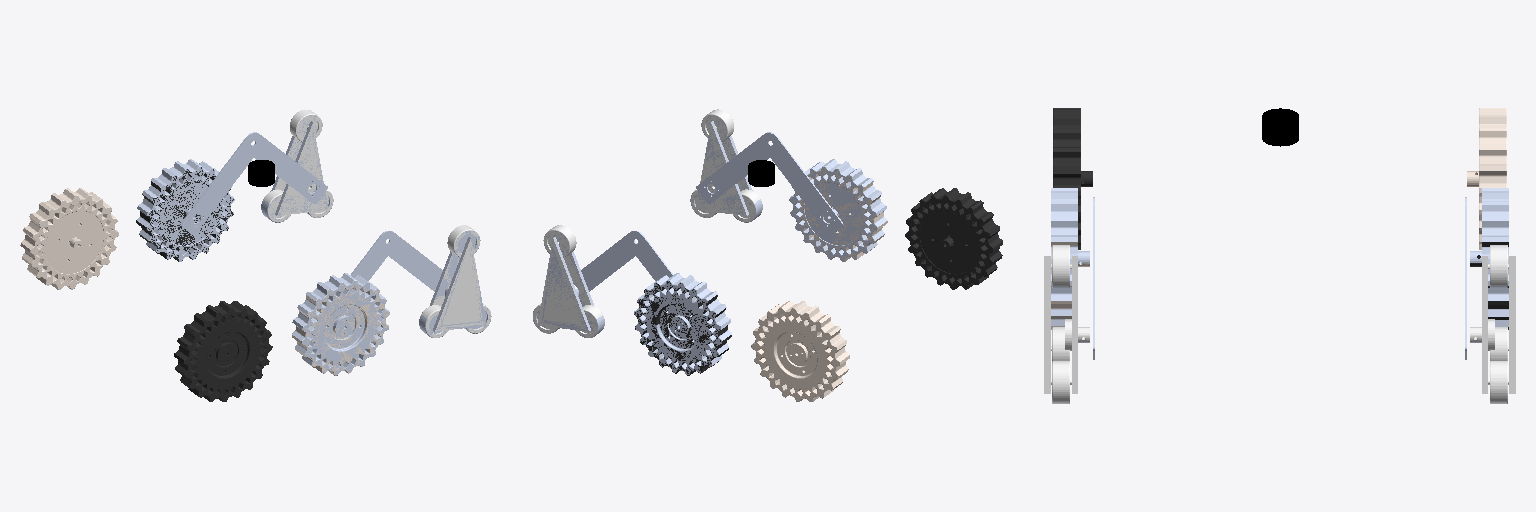
robot.urdf — r2krishna:
<?xml version="1.0" encoding="utf-8"?>
<robot name="r2krishna">
  
  <link name="base_link">
    <inertial>
      <origin xyz="0.110273400547228 -0.0643438972852127 0.0207053230118007" rpy="0 0 0" />
      <mass value="21.9610196729677" />
      <inertia ixx="0.15447400659073" ixy="0.00169652603130967" ixz="-0.00512190357984683" iyy="0.16520749268662" iyz="-7.06369736169903E-05" izz="0.285489345704309" />
    </inertial>
    <visual>
      <origin xyz="0 0 0" rpy="0 0 0" />
      <geometry><mesh filename="package://r2krishna/meshes/base_link.STL" /></geometry>
      <material name=""><color rgba="0.75 0.75 0.75 1" /></material>
    </visual>
    <collision>
      <origin xyz="0 0 0" rpy="0 0 0" />
      <geometry><mesh filename="package://r2krishna/meshes/base_link.STL" /></geometry>
    </collision>
  </link>

  <link name="link_FL1">
    <inertial>
      <origin xyz="0.00061925 -0.034108 -7.4778E-05" rpy="0 0 0" />
      <mass value="0.67641" />
      <inertia ixx="0.00028451" ixy="2.1427E-12" ixz="3.1E-05" iyy="0.00071901" iyz="-5.3869E-12" izz="0.00053748" />
    </inertial>
    <visual>
      <origin xyz="0 0 0" rpy="0 0 0" />
      <geometry><mesh filename="package://r2krishna/meshes/link_FL1.STL" /></geometry>
      <material name=""><color rgba="1 1 1 1" /></material>
    </visual>
    <collision>
      <origin xyz="0 0 0" rpy="0 0 0" />
      <geometry><mesh filename="package://r2krishna/meshes/link_FL1.STL" /></geometry>
    </collision>
  </link>
  <joint name="joint_FL1" type="continuous">
    <origin xyz="0.30332 0.37993 -0.22077" rpy="0 1.5708 0" />
    <parent link="base_link" />
    <child link="link_FL1" />
    <axis xyz="0 1 0" />
  </joint>

  <link name="link_FL2">
    <inertial>
      <origin xyz="7.2164E-16 -0.01 1.027E-15" rpy="0 0 0" />
      <mass value="0.099098" />
      <inertia ixx="3.8935E-05" ixy="-4.7043E-20" ixz="-1.1315E-20" iyy="6.5431E-05" iyz="1.6209E-19" izz="3.8935E-05" />
    </inertial>
    <visual>
      <origin xyz="0 0 0" rpy="0 0 0" />
      <geometry><mesh filename="package://r2krishna/meshes/link_FL2.STL" /></geometry>
      <material name=""><color rgba="1 1 1 1" /></material>
    </visual>
    <collision>
      <origin xyz="0 0 0" rpy="0 0 0" />
      <geometry><mesh filename="package://r2krishna/meshes/link_FL2.STL" /></geometry>
    </collision>
  </link>
  <joint name="joint_FL2" type="continuous">
    <origin xyz="0.3185 0.36293 -0.095009" rpy="0 0 0" />
    <parent link="base_link" />
    <child link="link_FL2" />
    <axis xyz="0 1 0" />
  </joint>

  <link name="link_FL3">
    <inertial>
      <origin xyz="7.2164E-16 -0.01 1.0547E-15" rpy="0 0 0" />
      <mass value="0.099098" />
      <inertia ixx="3.8935E-05" ixy="-4.6635E-20" ixz="-1.6422E-21" iyy="6.5431E-05" iyz="1.6532E-19" izz="3.8935E-05" />
    </inertial>
    <visual>
      <origin xyz="0 0 0" rpy="0 0 0" />
      <geometry><mesh filename="package://r2krishna/meshes/link_FL3.STL" /></geometry>
      <material name=""><color rgba="1 1 1 1" /></material>
    </visual>
    <collision>
      <origin xyz="0 0 0" rpy="0 0 0" />
      <geometry><mesh filename="package://r2krishna/meshes/link_FL3.STL" /></geometry>
    </collision>
  </link>
  <joint name="joint_FL3" type="continuous">
    <origin xyz="0.347 0.36293 -0.28793" rpy="0 0 0" />
    <parent link="base_link" />
    <child link="link_FL3" />
    <axis xyz="0 1 0" />
  </joint>

  <link name="link_FL4">
    <inertial>
      <origin xyz="2.7756E-17 -0.01 0" rpy="0 0 0" />
      <mass value="0.099098" />
      <inertia ixx="3.8935E-05" ixy="-4.2324E-20" ixz="3.5808E-21" iyy="6.5431E-05" iyz="1.6543E-19" izz="3.8935E-05" />
    </inertial>
    <visual>
      <origin xyz="0 0 0" rpy="0 0 0" />
      <geometry><mesh filename="package://r2krishna/meshes/link_FL4.STL" /></geometry>
      <material name=""><color rgba="1 1 1 1" /></material>
    </visual>
    <collision>
      <origin xyz="0 0 0" rpy="0 0 0" />
      <geometry><mesh filename="package://r2krishna/meshes/link_FL4.STL" /></geometry>
    </collision>
  </link>
  <joint name="joint_FL4" type="continuous">
    <origin xyz="0.24491 0.36293 -0.2756" rpy="0 0 0" />
    <parent link="base_link" />
    <child link="link_FL4" />
    <axis xyz="0 1 0" />
  </joint>

  <link name="link_bogieL">
    <inertial>
      <origin xyz="-0.065923 0.042065 -0.14456" rpy="0 0 0" />
      <mass value="2.9349" />
      <inertia ixx="0.0071128" ixy="-2.0634E-12" ixz="-4.6428E-05" iyy="0.014972" iyz="8.6033E-12" izz="0.0086463" />
    </inertial>
    <visual>
      <origin xyz="0 0 0" rpy="0 0 0" />
      <geometry><mesh filename="package://r2krishna/meshes/link_bogieL.STL" /></geometry>
      <material name=""><color rgba="0.86667 0.9098 1 1" /></material>
    </visual>
    <collision>
      <origin xyz="0 0 0" rpy="0 0 0" />
      <geometry><mesh filename="package://r2krishna/meshes/link_bogieL.STL" /></geometry>
    </collision>
  </link>
  <joint name="joint_bogieL" type="continuous">
    <origin xyz="0.15102 0.29993 -0.076168" rpy="0 0 0" />
    <parent link="base_link" />
    <child link="link_bogieL" />
    <axis xyz="0 1 0" />
  </joint>

  <link name="link_ML">
    <inertial>
      <origin xyz="1.0203E-10 -0.01995 2.8366E-10" rpy="0 0 0" />
      <mass value="2.0069" />
      <inertia ixx="0.0059093" ixy="3.3235E-12" ixz="-1.8276E-07" iyy="0.011135" iyz="1.0746E-11" izz="0.0059093" />
    </inertial>
    <visual>
      <origin xyz="0 0 0" rpy="0 0 0" />
      <geometry><mesh filename="package://r2krishna/meshes/link_ML.STL" /></geometry>
      <material name=""><color rgba="0.25 0.25 0.25 1" /></material>
    </visual>
    <collision>
      <origin xyz="0 0 0" rpy="0 0 0" />
      <geometry><mesh filename="package://r2krishna/meshes/link_ML.STL" /></geometry>
    </collision>
  </link>
  <joint name="joint_ML" type="continuous">
    <origin xyz="0.0031166 0.36593 -0.22807" rpy="0 0 0" />
    <parent link="base_link" />
    <child link="link_ML" />
    <axis xyz="0 1 0" />
  </joint>

  <link name="link_BL">
    <inertial>
      <origin xyz="4.6348E-11 -0.01995 -2.9787E-10" rpy="0 0 0" />
      <mass value="2.0069" />
      <inertia ixx="0.0059094" ixy="2.2314E-12" ixz="-1.2162E-07" iyy="0.011135" iyz="-1.1025E-11" izz="0.0059092" />
    </inertial>
    <visual>
      <origin xyz="0 0 0" rpy="0 0 0" />
      <geometry><mesh filename="package://r2krishna/meshes/link_BL.STL" /></geometry>
      <material name=""><color rgba="1 0.94902 0.9098 1" /></material>
    </visual>
    <collision>
      <origin xyz="0 0 0" rpy="0 0 0" />
      <geometry><mesh filename="package://r2krishna/meshes/link_BL.STL" /></geometry>
    </collision>
  </link>
  <joint name="joint_BL" type="continuous">
    <origin xyz="-0.2988 0.36193 -0.22635" rpy="0 0 0" />
    <parent link="base_link" />
    <child link="link_BL" />
    <axis xyz="0 1 0" />
  </joint>

  <link name="link_FR1">
    <inertial>
      <origin xyz="-7.4777E-05 0.034108 -0.00061925" rpy="0 0 0" />
      <mass value="0.67641" />
      <inertia ixx="0.00053748" ixy="-4.722E-12" ixz="-3.1E-05" iyy="0.00071901" iyz="3.3634E-12" izz="0.00028451" />
    </inertial>
    <visual>
      <origin xyz="0 0 0" rpy="0 0 0" />
      <geometry><mesh filename="package://r2krishna/meshes/link_FR1.STL" /></geometry>
      <material name=""><color rgba="1 1 1 1" /></material>
    </visual>
    <collision>
      <origin xyz="0 0 0" rpy="0 0 0" />
      <geometry><mesh filename="package://r2krishna/meshes/link_FR1.STL" /></geometry>
    </collision>
  </link>
  <joint name="joint_FR1" type="continuous">
    <origin xyz="0.30332 -0.38207 -0.22077" rpy="0 0 0" />
    <parent link="base_link" />
    <child link="link_FR1" />
    <axis xyz="0 1 0" />
  </joint>

  <link name="link_FR2">
    <inertial>
      <origin xyz="0 0.01 6.9389E-17" rpy="0 0 0" />
      <mass value="0.099098" />
      <inertia ixx="3.8935E-05" ixy="-2.6072E-20" ixz="2.0643E-21" iyy="6.5431E-05" iyz="2.0555E-19" izz="3.8935E-05" />
    </inertial>
    <visual>
      <origin xyz="0 0 0" rpy="0 0 0" />
      <geometry><mesh filename="package://r2krishna/meshes/link_FR2.STL" /></geometry>
      <material name=""><color rgba="1 1 1 1" /></material>
    </visual>
    <collision>
      <origin xyz="0 0 0" rpy="0 0 0" />
      <geometry><mesh filename="package://r2krishna/meshes/link_FR2.STL" /></geometry>
    </collision>
  </link>
  <joint name="joint_FR2" type="continuous">
    <origin xyz="0.3185 -0.36507 -0.095009" rpy="0 0 0" />
    <parent link="base_link" />
    <child link="link_FR2" />
    <axis xyz="0 1 0" />
  </joint>

  <link name="link_FR3">
    <inertial>
      <origin xyz="-2.7756E-17 0.01 5.5511E-17" rpy="0 0 0" />
      <mass value="0.099098" />
      <inertia ixx="3.8935E-05" ixy="-2.3474E-20" ixz="5.1648E-21" iyy="6.5431E-05" iyz="2.028E-19" izz="3.8935E-05" />
    </inertial>
    <visual>
      <origin xyz="0 0 0" rpy="0 0 0" />
      <geometry><mesh filename="package://r2krishna/meshes/link_FR3.STL" /></geometry>
      <material name=""><color rgba="1 1 1 1" /></material>
    </visual>
    <collision>
      <origin xyz="0 0 0" rpy="0 0 0" />
      <geometry><mesh filename="package://r2krishna/meshes/link_FR3.STL" /></geometry>
    </collision>
  </link>
  <joint name="joint_FR3" type="continuous">
    <origin xyz="0.24491 -0.36507 -0.2756" rpy="0 0 0" />
    <parent link="base_link" />
    <child link="link_FR3" />
    <axis xyz="0 1 0" />
  </joint>

  <link name="link_FR4">
    <inertial>
      <origin xyz="-5.5511E-17 0.01 5.5511E-17" rpy="0 0 0" />
      <mass value="0.099098" />
      <inertia ixx="3.8935E-05" ixy="-2.5923E-20" ixz="7.0653E-22" iyy="6.5431E-05" iyz="2.0272E-19" izz="3.8935E-05" />
    </inertial>
    <visual>
      <origin xyz="0 0 0" rpy="0 0 0" />
      <geometry><mesh filename="package://r2krishna/meshes/link_FR4.STL" /></geometry>
      <material name=""><color rgba="1 1 1 1" /></material>
    </visual>
    <collision>
      <origin xyz="0 0 0" rpy="0 0 0" />
      <geometry><mesh filename="package://r2krishna/meshes/link_FR4.STL" /></geometry>
    </collision>
  </link>
  <joint name="joint_FR4" type="continuous">
    <origin xyz="0.347 -0.36507 -0.28793" rpy="0 0 0" />
    <parent link="base_link" />
    <child link="link_FR4" />
    <axis xyz="0 1 0" />
  </joint>

  <link name="link_bogieR">
    <inertial>
      <origin xyz="-0.065923 -0.046065 -0.14456" rpy="0 0 0" />
      <mass value="2.9349" />
      <inertia ixx="0.0071127" ixy="-1.2688E-11" ixz="-4.6165E-05" iyy="0.014972" iyz="1.1305E-11" izz="0.0086464" />
    </inertial>
    <visual>
      <origin xyz="0 0 0" rpy="0 0 0" />
      <geometry><mesh filename="package://r2krishna/meshes/link_bogieR.STL" /></geometry>
      <material name=""><color rgba="0.86667 0.9098 1 1" /></material>
    </visual>
    <collision>
      <origin xyz="0 0 0" rpy="0 0 0" />
      <geometry><mesh filename="package://r2krishna/meshes/link_bogieR.STL" /></geometry>
    </collision>
  </link>
  <joint name="joint_bogieR" type="continuous">
    <origin xyz="0.15102 -0.29807 -0.076168" rpy="0 0 0" />
    <parent link="base_link" />
    <child link="link_bogieR" />
    <axis xyz="0 1 0" />
  </joint>

  <link name="link_MR">
    <inertial>
      <origin xyz="2.229E-10 0.01995 -2.0295E-10" rpy="0 0 0" />
      <mass value="2.0069" />
      <inertia ixx="0.0059091" ixy="-7.9655E-12" ixz="8.0349E-08" iyy="0.011135" iyz="7.9419E-12" izz="0.0059095" />
    </inertial>
    <visual>
      <origin xyz="0 0 0" rpy="0 0 0" />
      <geometry><mesh filename="package://r2krishna/meshes/link_MR.STL" /></geometry>
      <material name=""><color rgba="1 0.94902 0.9098 1" /></material>
    </visual>
    <collision>
      <origin xyz="0 0 0" rpy="0 0 0" />
      <geometry><mesh filename="package://r2krishna/meshes/link_MR.STL" /></geometry>
    </collision>
  </link>
  <joint name="joint_MR" type="continuous">
    <origin xyz="0.0031166 -0.36807 -0.22807" rpy="0 0 0" />
    <parent link="base_link" />
    <child link="link_MR" />
    <axis xyz="0 1 0" />
  </joint>

  <link name="link_BR">
    <inertial>
      <origin xyz="2.4959E-10 0.01995 -1.6905E-10" rpy="0 0 0" />
      <mass value="2.0069" />
      <inertia ixx="0.0059091" ixy="-9.0177E-12" ixz="3.0059E-08" iyy="0.011135" iyz="6.7234E-12" izz="0.0059095" />
    </inertial>
    <visual>
      <origin xyz="0 0 0" rpy="0 0 0" />
      <geometry><mesh filename="package://r2krishna/meshes/link_BR.STL" /></geometry>
      <material name=""><color rgba="0.25098 0.25098 0.25098 1" /></material>
    </visual>
    <collision>
      <origin xyz="0 0 0" rpy="0 0 0" />
      <geometry><mesh filename="package://r2krishna/meshes/link_BR.STL" /></geometry>
    </collision>
  </link>
  <joint name="Joint_BR" type="continuous">
    <origin xyz="-0.2988 -0.36407 -0.22635" rpy="0 0 0" />
    <parent link="base_link" />
    <child link="link_BR" />
    <axis xyz="0 1 0" />
  </joint>

  <link name="laser_frame">
    <visual>
      <geometry><cylinder length="0.04" radius="0.03"/></geometry>
      <material name="black"><color rgba="0 0 0 1"/></material>
    </visual>
    <inertial>
      <mass value="0.1"/>
      <inertia ixx="0.0001" ixy="0" ixz="0" iyy="0.0001" iyz="0" izz="0.0001"/>
    </inertial>
  </link>

  <joint name="lidar_joint" type="fixed">
    <parent link="base_link"/>
    <child link="laser_frame"/>
    <origin xyz="0 0 0.005" rpy="0 0 0"/>
  </joint>

  <gazebo>
    <plugin filename="gz-sim-diff-drive-system" name="gz::sim::systems::DiffDrive">
      <left_joint>joint_ML</left_joint>
      <right_joint>joint_MR</right_joint>
      <wheel_separation>0.6</wheel_separation>
      <wheel_radius>0.1</wheel_radius>
      <odom_publish_frequency>20</odom_publish_frequency>
      <topic>cmd_vel</topic>
      <odom_topic>odom</odom_topic>
      <tf_topic>tf</tf_topic>
      <frame_id>odom</frame_id>
      <child_frame_id>base_link</child_frame_id>
    </plugin>
    
    <plugin filename="gz-sim-joint-state-publisher-system" name="gz::sim::systems::JointStatePublisher">
      <topic>joint_states</topic>
    </plugin>
  </gazebo>

  <gazebo reference="link_ML">
      <mu1>2.0</mu1><mu2>2.0</mu2><kp>1000000.0</kp><kd>1.0</kd>
  </gazebo>
  <gazebo reference="link_MR">
      <mu1>2.0</mu1><mu2>2.0</mu2><kp>1000000.0</kp><kd>1.0</kd>
  </gazebo>

  <gazebo reference="laser_frame">
    <sensor name="lidar" type="gpu_lidar">
      <pose>0 0 0 0 0 0</pose>
      <topic>scan</topic>
      <frame_id>laser_frame</frame_id>
      <always_on>true</always_on>
      <visualize>true</visualize>
      <update_rate>10</update_rate>
      <ray>
        <scan>
          <horizontal>
            <samples>360</samples>
            <resolution>1</resolution>
            <min_angle>-3.14</min_angle>
            <max_angle>3.14</max_angle>
          </horizontal>
        </scan>
        <range>
          <min>0.15</min>
          <max>12.0</max>
        </range>
      </ray>
    </sensor>
  </gazebo>

</robot>

--- Render facts (derived) ---
3 views of the same robot in one strip: view 1: azimuth 30°, elevation 25°; view 2: azimuth 150°, elevation 25°; view 3: azimuth 270°, elevation 25° (orthographic).
Robot: r2krishna — 16 links, 15 joints (14 continuous, 1 fixed); root link base_link; default pose: every joint at zero.
Visible links, largest first — view 1: link_bogieL, link_bogieR, link_BL, link_BR, link_FR1, link_FL1, link_MR, link_ML, laser_frame; view 2: link_bogieR, link_bogieL, link_BR, link_BL, link_FL1, link_FR1, link_ML, link_MR, laser_frame; view 3: link_FR1, link_FL1, link_bogieR, link_bogieL, link_BL, link_BR, laser_frame.
Boxes of the visible links, bbox=[...] form: link_bogieL: bbox=[137, 115, 332, 261]; link_bogieR: bbox=[292, 231, 490, 374]; link_BL: bbox=[20, 188, 118, 289]; link_BR: bbox=[174, 301, 272, 401]; link_FR1: bbox=[421, 225, 491, 337]; link_FL1: bbox=[264, 110, 333, 221]; link_MR: bbox=[292, 282, 389, 375]; link_ML: bbox=[136, 167, 233, 261]; laser_frame: bbox=[248, 160, 274, 186]; link_bogieR: bbox=[691, 115, 887, 261]; link_bogieL: bbox=[533, 231, 731, 374]; link_BR: bbox=[905, 188, 1002, 289]; link_BL: bbox=[751, 301, 849, 401]; link_FL1: bbox=[533, 225, 602, 337]; link_FR1: bbox=[690, 109, 759, 221]; link_ML: bbox=[634, 281, 731, 375]; link_MR: bbox=[790, 167, 887, 261]; laser_frame: bbox=[748, 160, 774, 186]; link_FR1: bbox=[1044, 245, 1089, 395]; link_FL1: bbox=[1470, 245, 1515, 393]; link_bogieR: bbox=[1051, 188, 1094, 359]; link_bogieL: bbox=[1465, 188, 1508, 359]; link_BL: bbox=[1467, 108, 1506, 249]; link_BR: bbox=[1053, 108, 1092, 249]; laser_frame: bbox=[1262, 108, 1298, 146].
Size in the robot's own frame: 0.7958 by 0.762 by 0.3679 metres.
14 mesh visuals loaded from 15 distinct referenced files (14 binary STL); not drawn: 1 (reference not matched to a file when rendering).
